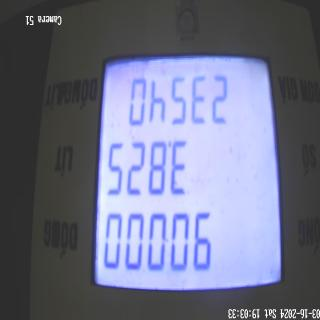screen: (88, 26, 288, 315)
